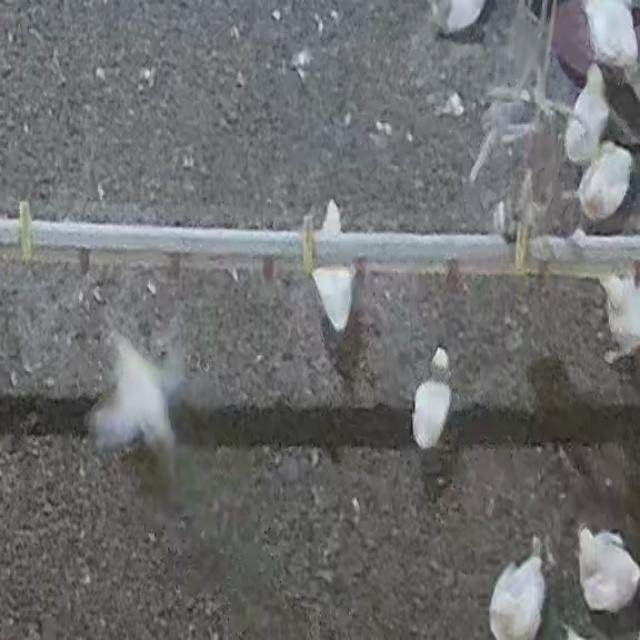chicken: (87, 332, 181, 472), (311, 199, 358, 329), (489, 537, 546, 640), (577, 524, 638, 614), (564, 64, 611, 168), (576, 140, 633, 221), (413, 347, 453, 451), (583, 0, 639, 74), (599, 272, 639, 364)
